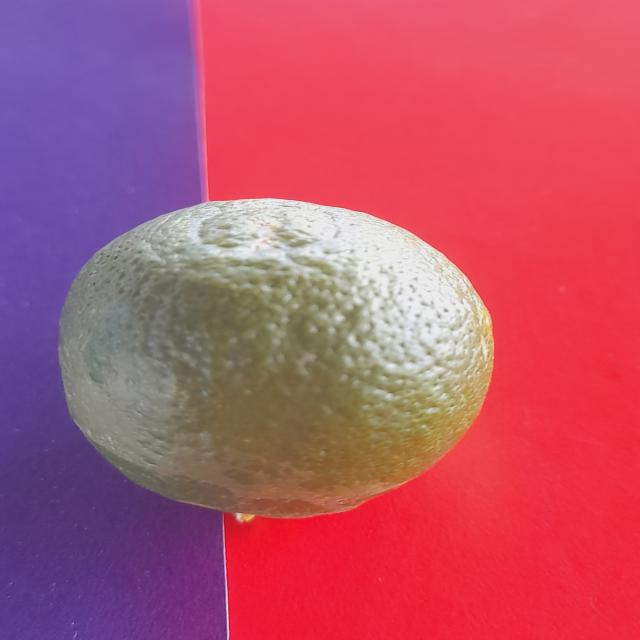thrips: (55, 211, 510, 541)
